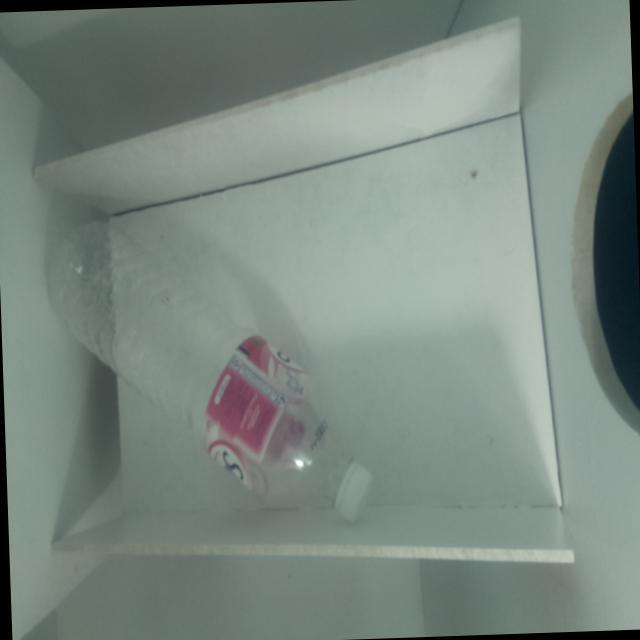good: (24, 173, 392, 555)
